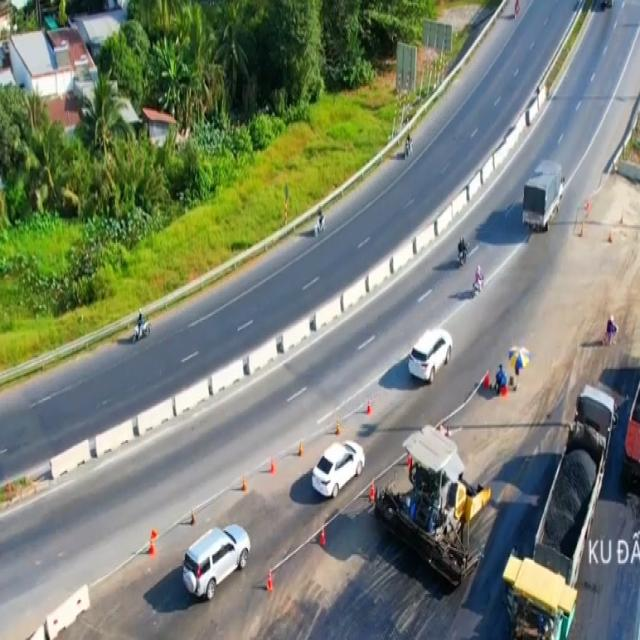car: (180, 521, 251, 599), (314, 439, 365, 506), (409, 326, 453, 383)
motorbike: (132, 311, 149, 342), (312, 212, 329, 240), (458, 235, 470, 270), (473, 267, 486, 299), (404, 135, 414, 156)
truck: (522, 159, 566, 234)
